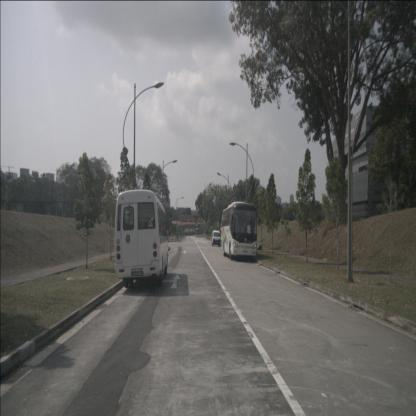vehicle-bus-rigid: (115, 189, 168, 288), (221, 201, 257, 260), (195, 228, 200, 237)
vehicle-car: (211, 230, 221, 247)
